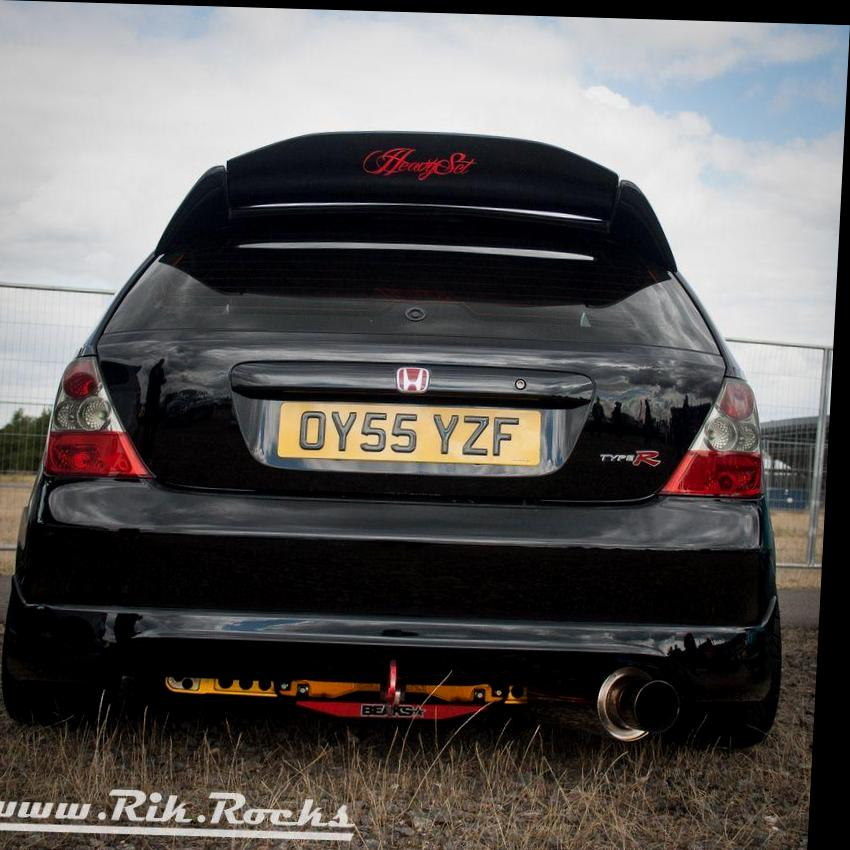License_Plate: (266, 392, 552, 474)
